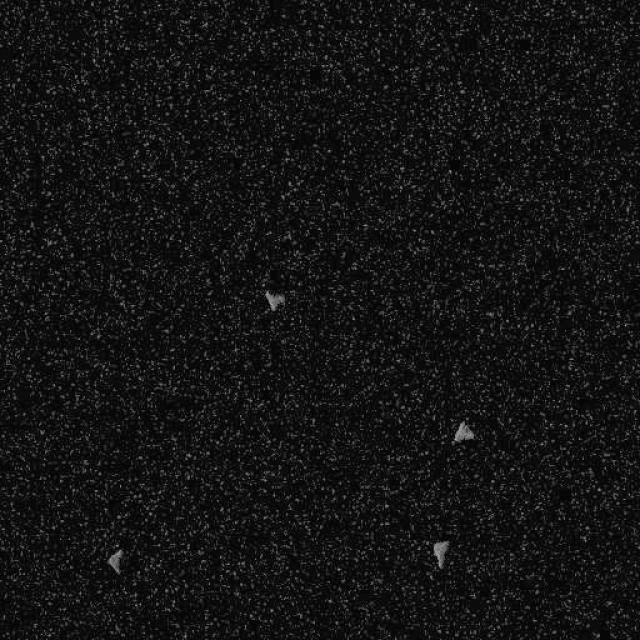D2: (451, 418, 475, 444), (431, 538, 449, 568), (106, 547, 124, 575), (263, 290, 285, 311)
